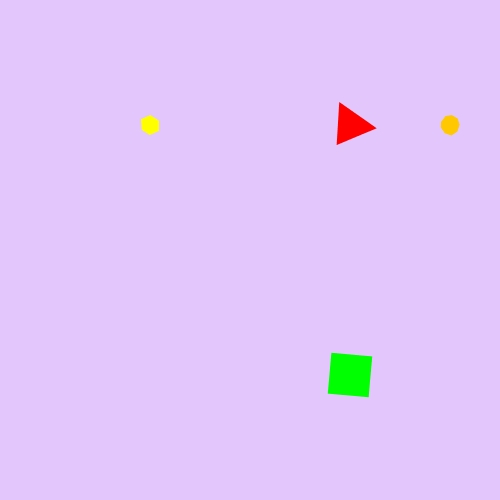hexagon: (135, 112, 165, 138)
nonagon: (436, 111, 465, 139)
quadrilateral: (318, 343, 382, 407)
triangle: (327, 101, 373, 149)
